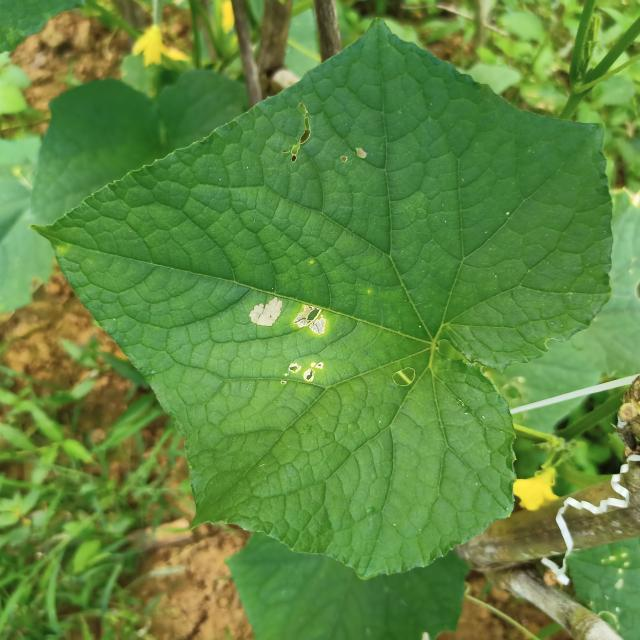disease_cucumber: (244, 292, 332, 389)
